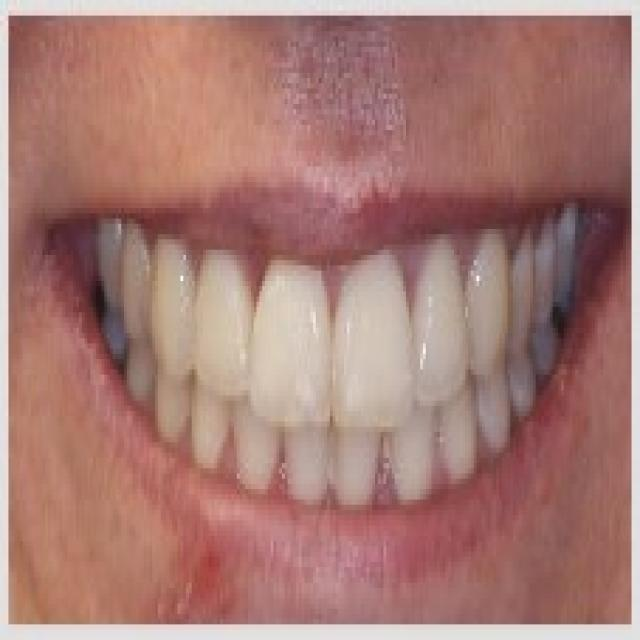tooth: (338, 249, 418, 426), (259, 265, 333, 432), (403, 229, 468, 401), (197, 250, 248, 411), (460, 218, 513, 369), (332, 390, 380, 531), (152, 234, 195, 370), (138, 348, 192, 448), (285, 411, 330, 526), (231, 411, 282, 500), (386, 421, 437, 505), (116, 234, 155, 333), (194, 380, 228, 479), (471, 385, 513, 458), (448, 401, 479, 478)
